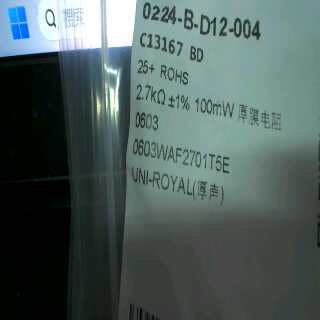2.7kR: (132, 82, 169, 107)
